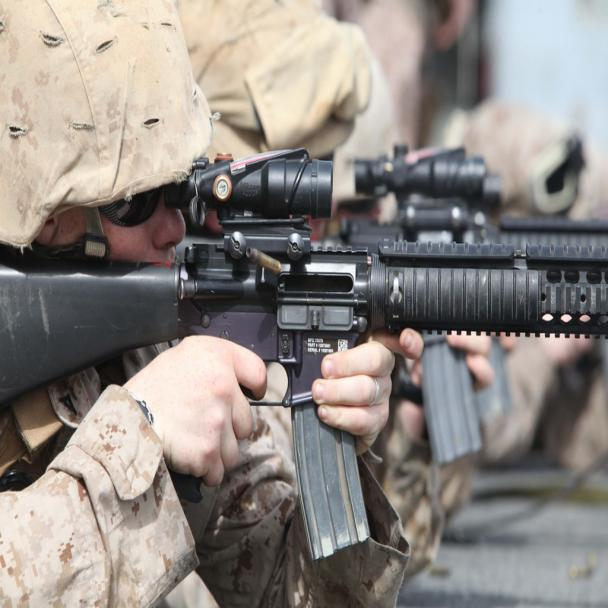Gun: (1, 157, 608, 366)
Hand: (118, 330, 270, 493), (310, 320, 427, 448)
